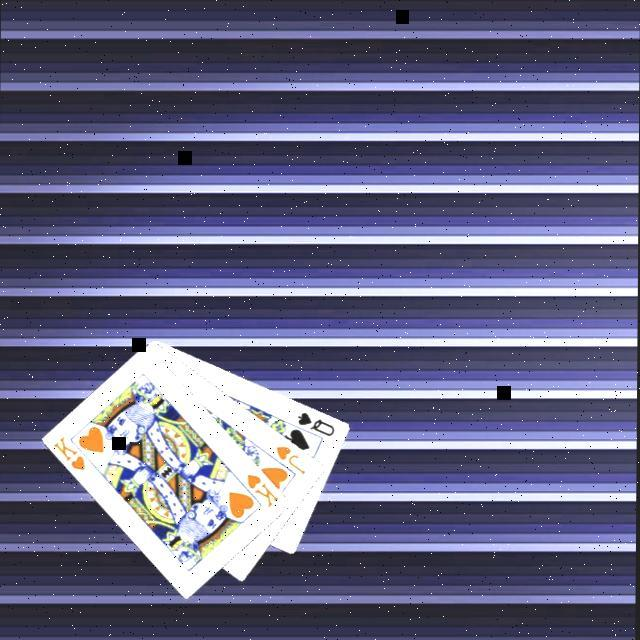JH: (274, 441, 310, 477)
KH: (244, 469, 284, 509), (52, 431, 90, 473)
QS: (296, 408, 340, 438)
